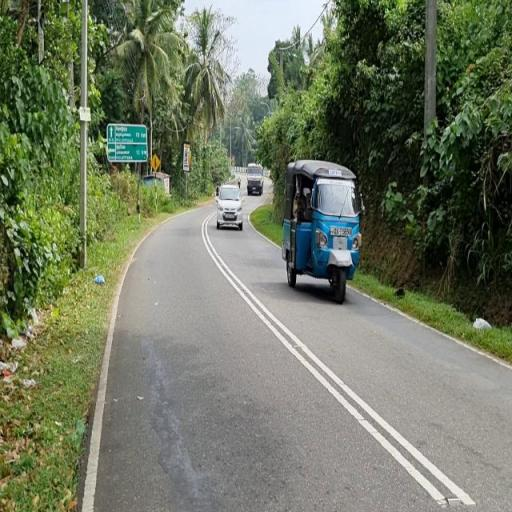double_white_line: (205, 210, 474, 504)
